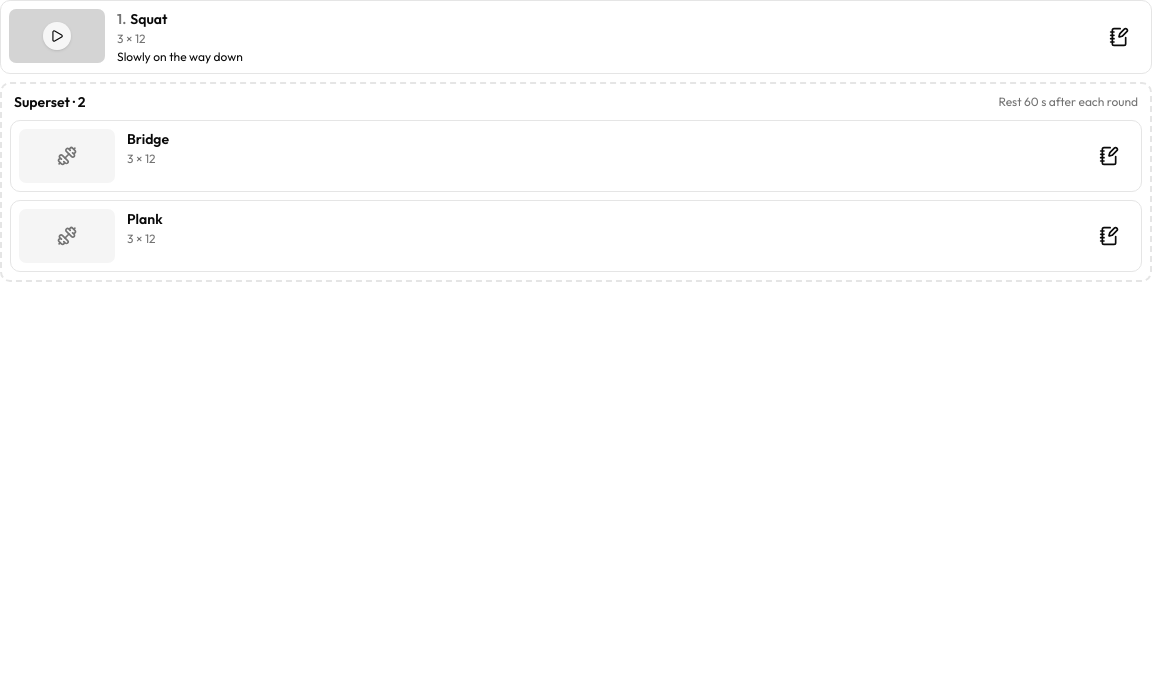
Scenario: ExerciseList › inline log › reopens with an invalid weight still shown and unsaved
Step 1. Click the button named "Log Squat" → (1119, 37), box [1095,13,1143,61]
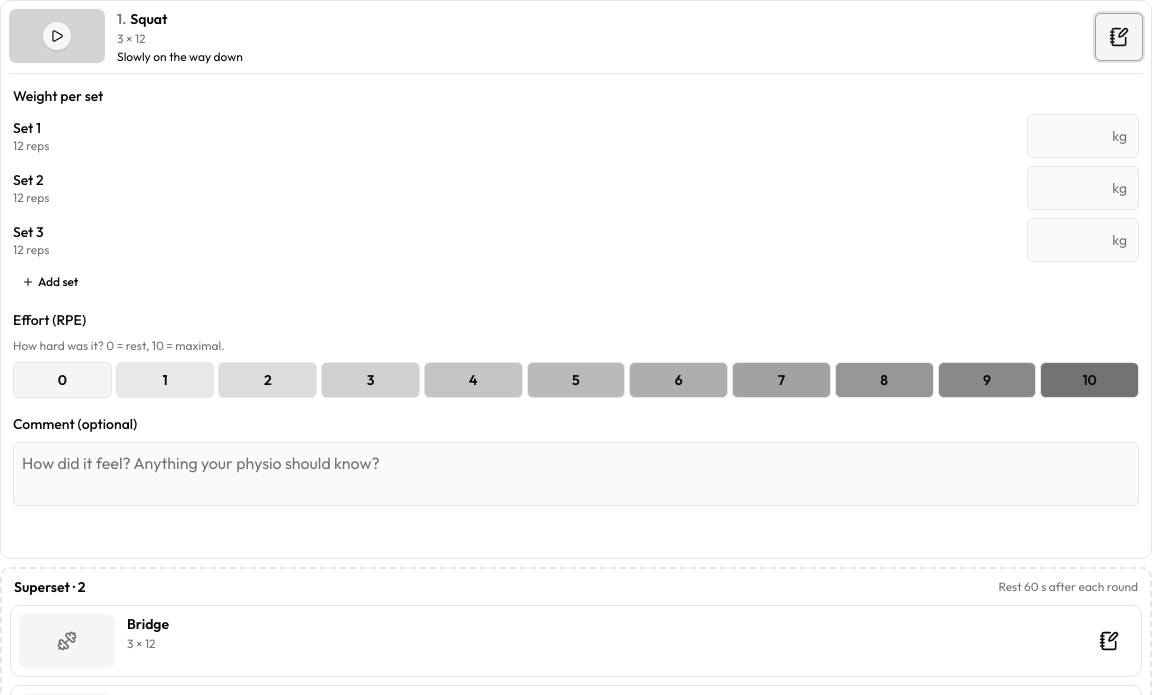
Step 2. Type "abc" into the field named "Set 2 weight in kg" → (1083, 188), box [1027,166,1139,210]
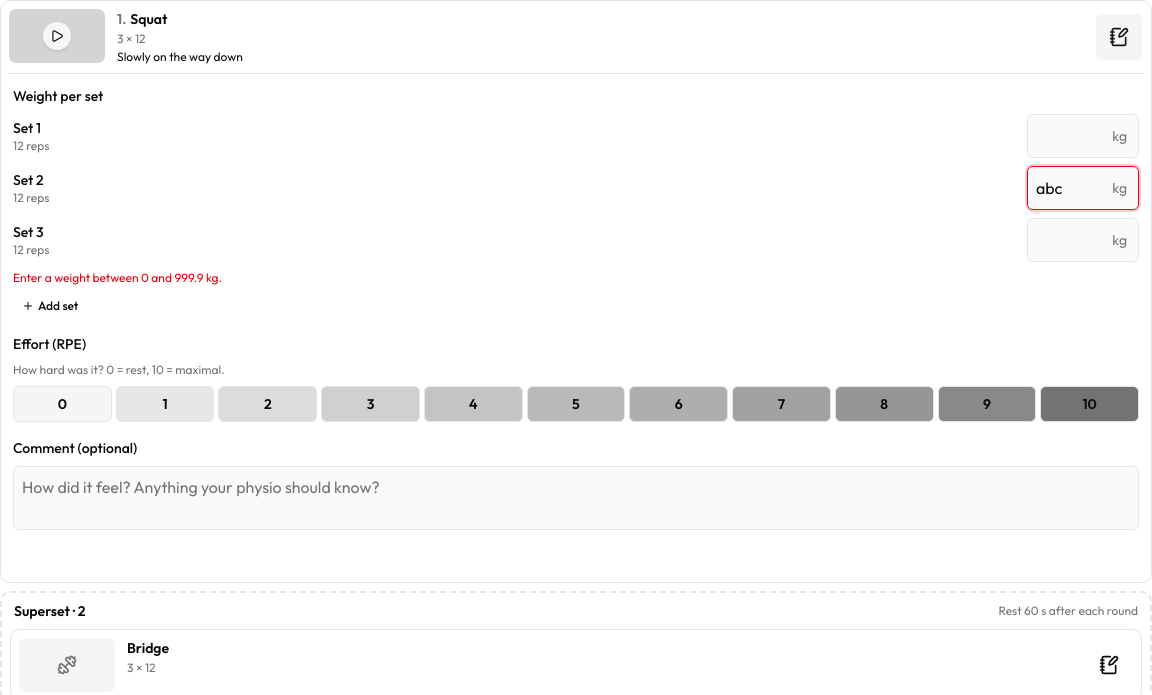
Step 3. Click the button named "Log Squat" → (1119, 37), box [1095,13,1143,61]
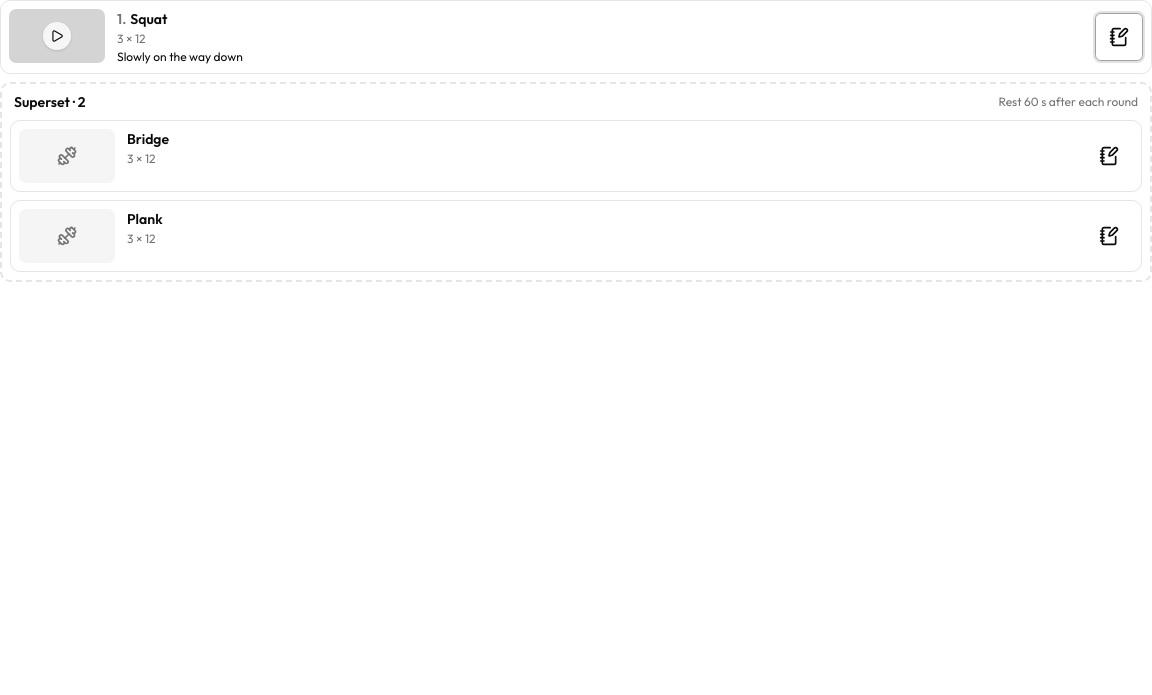
Step 4. Click the button named "Log Squat" → (1119, 37), box [1095,13,1143,61]
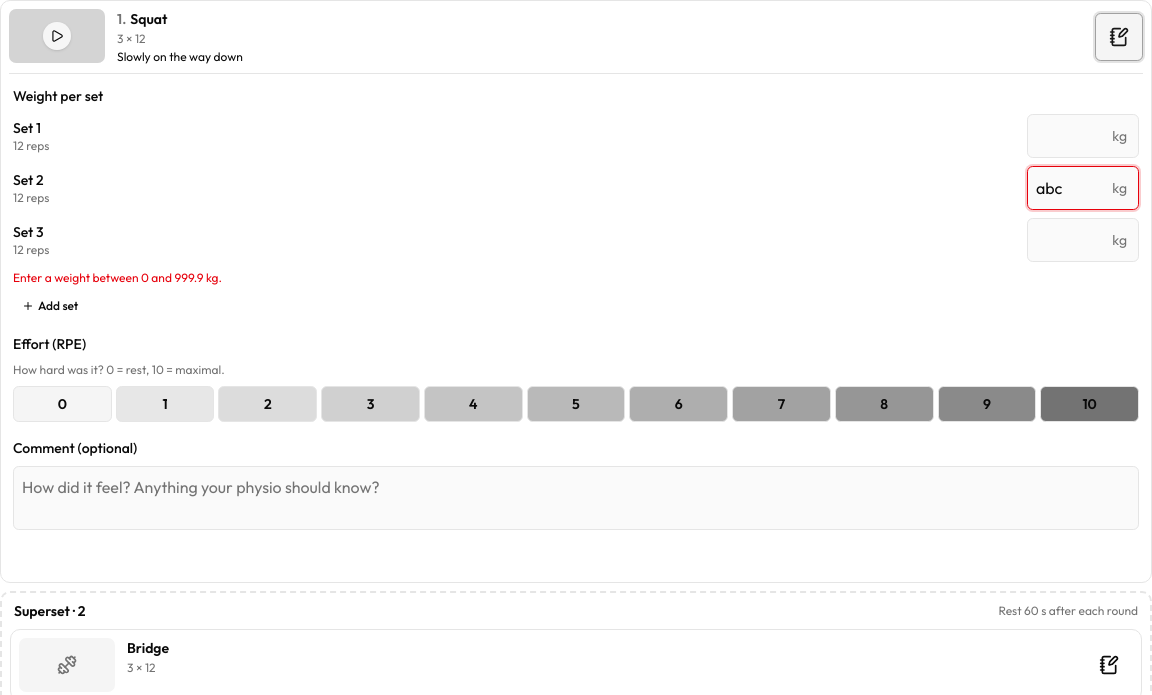
Result: the field named "Set 2 weight in kg" holds "abc" at [1027,166,1139,210]
